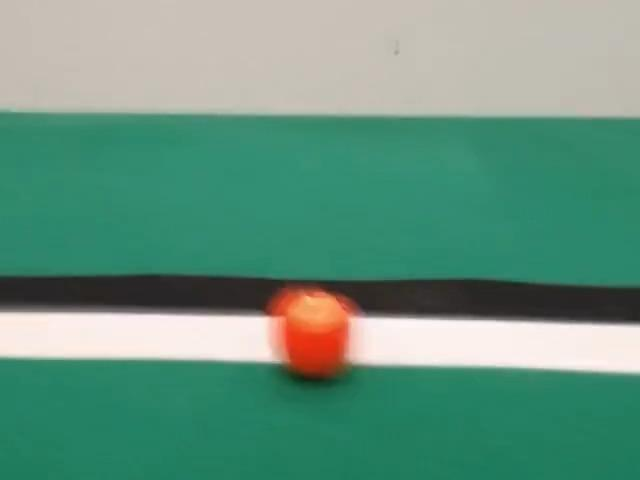Ball: (268, 288, 355, 379)
